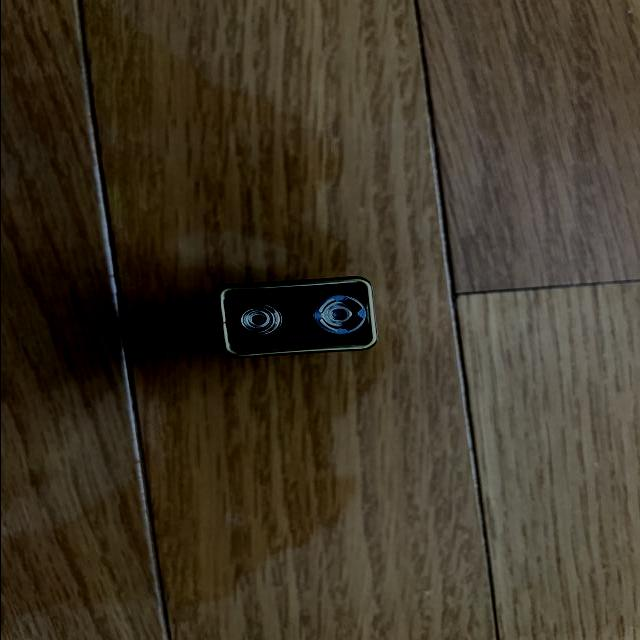9V: (216, 277, 379, 359)
